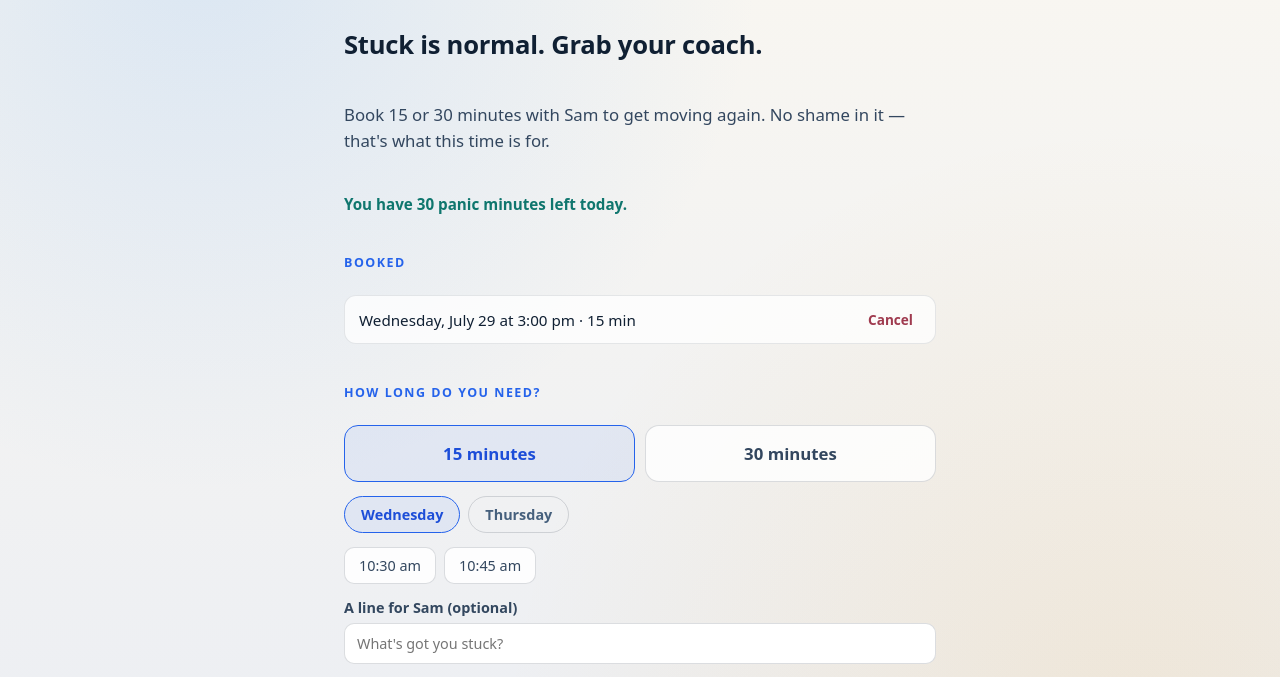
Test case: PanicPage booking › books a tapped slot and shows the quiet confirmation
Check: the heading "Stuck is normal. Grab your coach." is shown, box [344, 27, 762, 62]
Check: the text "You have 30 panic minutes left today." is shown, box [344, 194, 627, 214]
What coordinates should you click on to do the following:
click the button "10:30 am"
I would click on:
 (390, 566)
Its box is [344, 547, 436, 584].
(page scrolled)
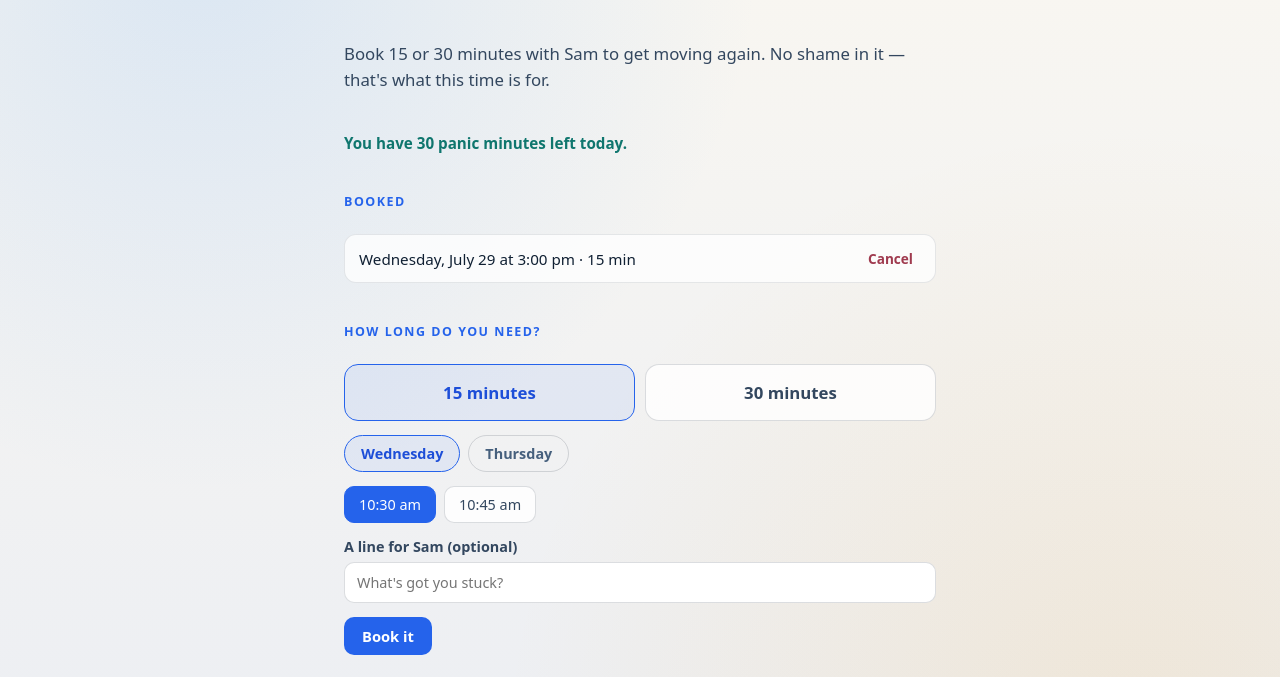
What coordinates should you click on to do the following:
click the button "Book it"
I would click on:
 (388, 636)
Its box is [344, 617, 432, 655].
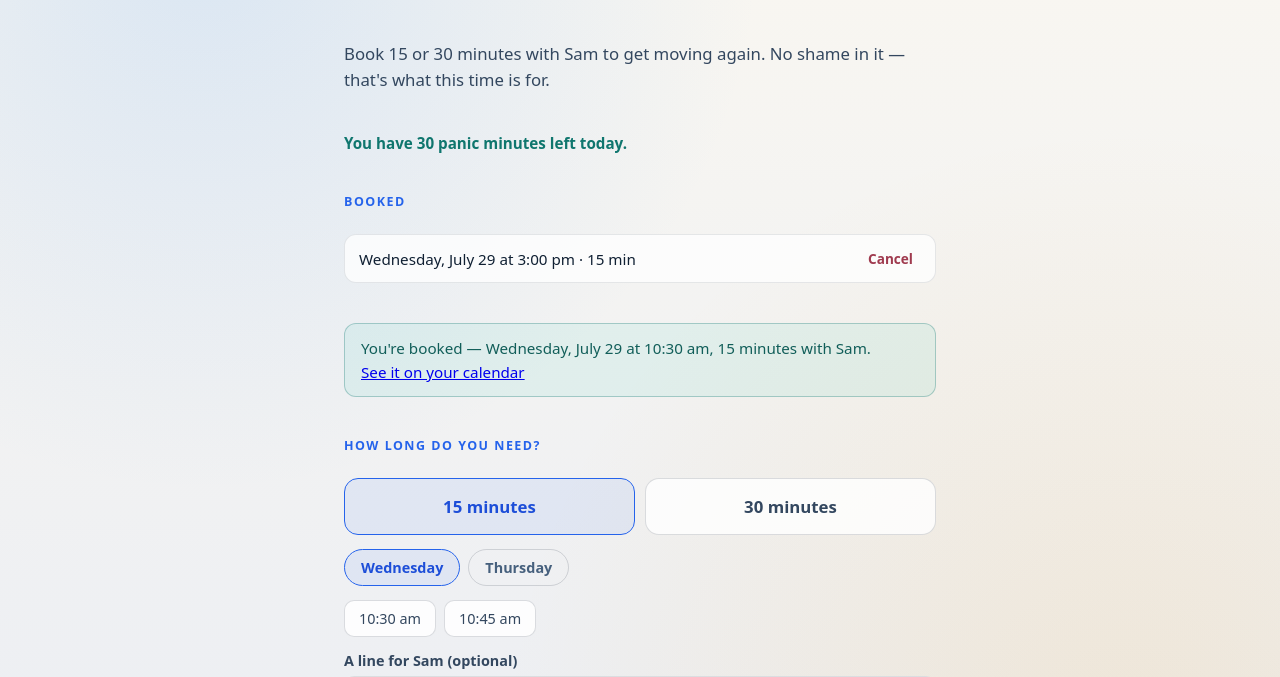
Check: the text "You're booked — Wednesday, July 29 at 10:30 am" is shown, box [361, 338, 919, 358]
